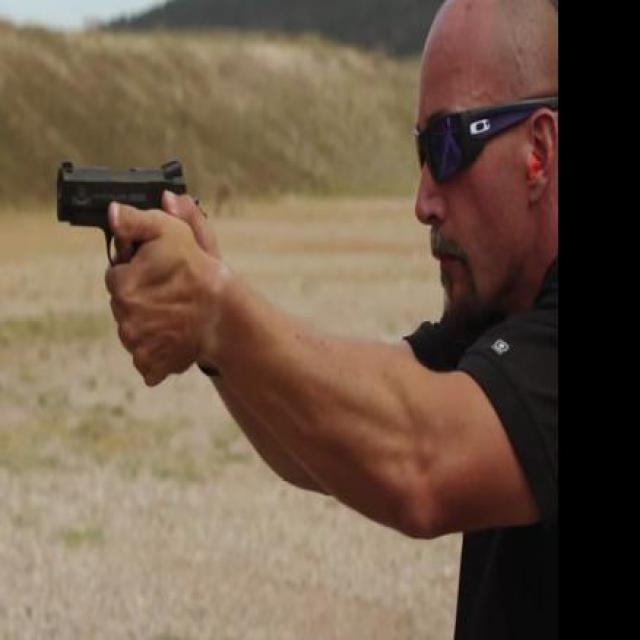gun: (52, 157, 206, 383)
